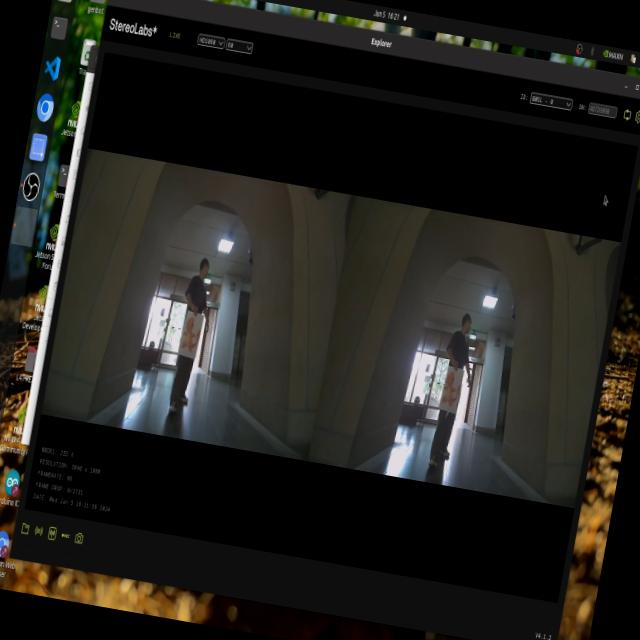red: (433, 361, 472, 422), (174, 304, 205, 361)
